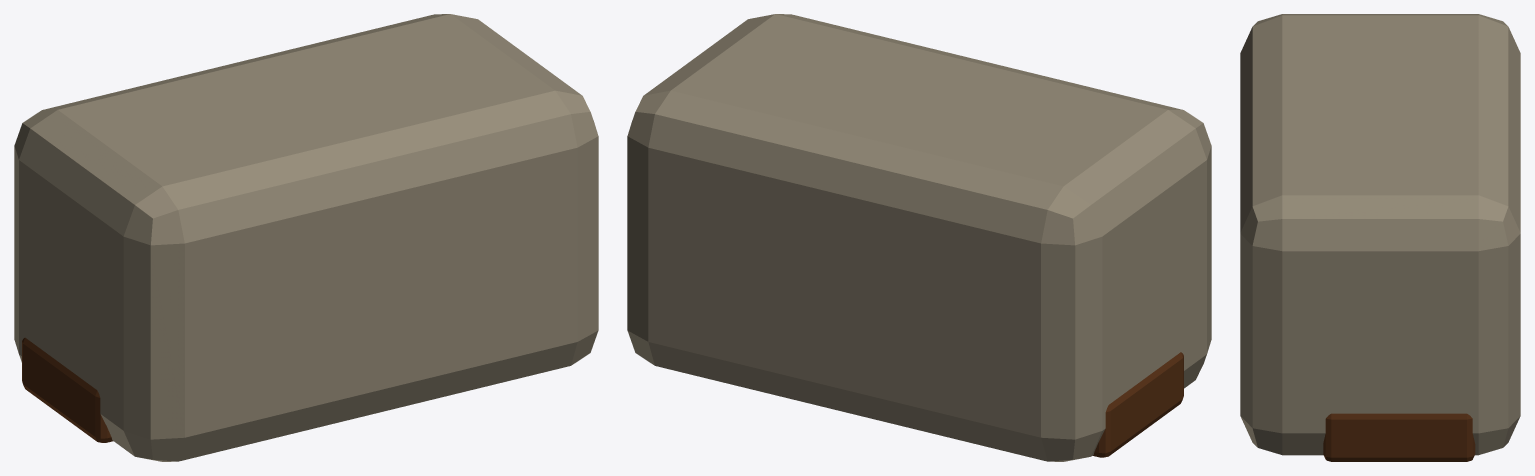
Rendered from triggerable_rock_pile_LOD1.glb.
3 renders of one model, left to right at view 1: azimuth 30°, elevation 25°; view 2: azimuth 150°, elevation 25°; view 3: azimuth 270°, elevation 25°, orthographic. The views are drawn at different scales.
Parts seen in each view (by area): view 1: LOD1_RockMass, LOD1_Cradle; view 2: LOD1_RockMass, LOD1_Cradle; view 3: LOD1_RockMass, LOD1_Cradle.
Boxes of the visible parts, <box> form: LOD1_RockMass: <box>14,14,598,461</box>; LOD1_Cradle: <box>22,337,113,442</box>; LOD1_RockMass: <box>627,14,1211,461</box>; LOD1_Cradle: <box>1092,352,1183,457</box>; LOD1_RockMass: <box>1240,14,1520,455</box>; LOD1_Cradle: <box>1323,413,1475,461</box>.
Size of the model in its own units: 2.2 by 1.22 by 1.2.
